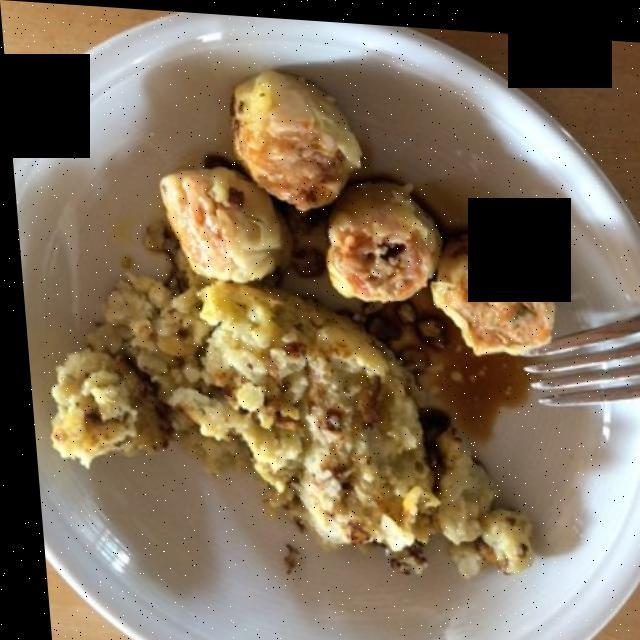cauliflower: (35, 224, 513, 576)
sauce: (289, 185, 524, 429)
